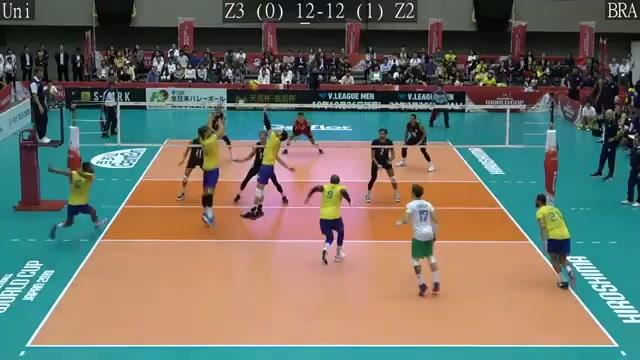ball: (246, 78, 262, 91)
